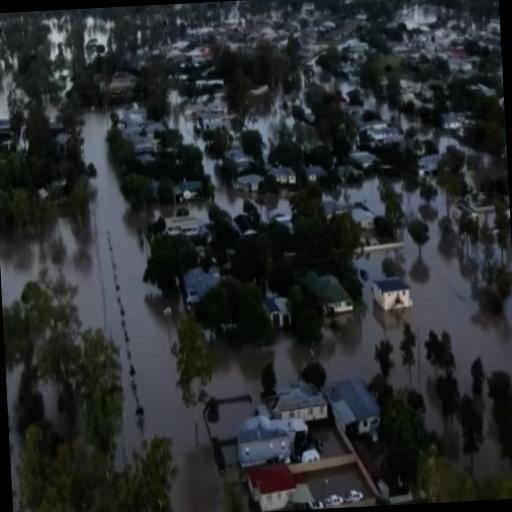flood: (0, 113, 223, 512), (314, 224, 512, 467), (161, 53, 471, 157), (206, 331, 311, 439), (204, 158, 292, 222), (323, 177, 385, 216), (6, 368, 20, 486), (394, 181, 426, 219), (430, 193, 447, 216), (0, 80, 9, 122)
house: (326, 374, 382, 445), (266, 376, 330, 428), (240, 416, 298, 472), (244, 460, 296, 512), (314, 270, 354, 316), (368, 276, 410, 312), (262, 291, 292, 331)
